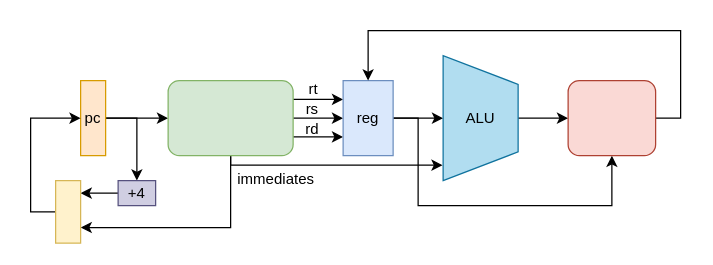
The diagram is 713 pixels wide and 265 high, and some of its shapes have lost their labels. The centre of each missing label's shape, as x and y in pixels:
Data memory: [611,117]
instruction memory: [230,117]
